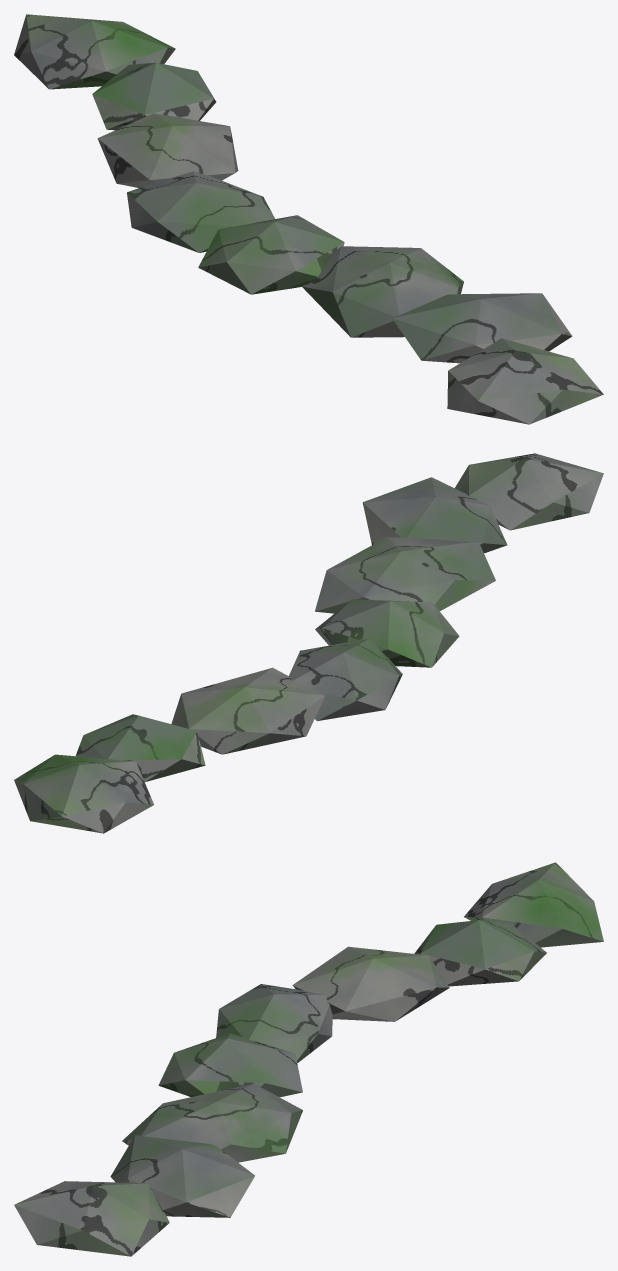
The model's file is stepping_stones.glb.
3 renders of one model, top to bottom at view 1: azimuth 30°, elevation 25°; view 2: azimuth 150°, elevation 25°; view 3: azimuth 330°, elevation 25°, orthographic. The views are drawn at different scales.
Parts seen in each view (by area): view 1: stepping_stones__stone; view 2: stepping_stones__stone; view 3: stepping_stones__stone.
Part boxes in pixels (x1,y1,x2,y2): stepping_stones__stone: (14,14,603,424); stepping_stones__stone: (14,453,603,833); stepping_stones__stone: (14,862,603,1256).
Size of the model in its own units: 1.59 by 0.3133 by 6.59.
Materials: 1 (1 with a texture image).
